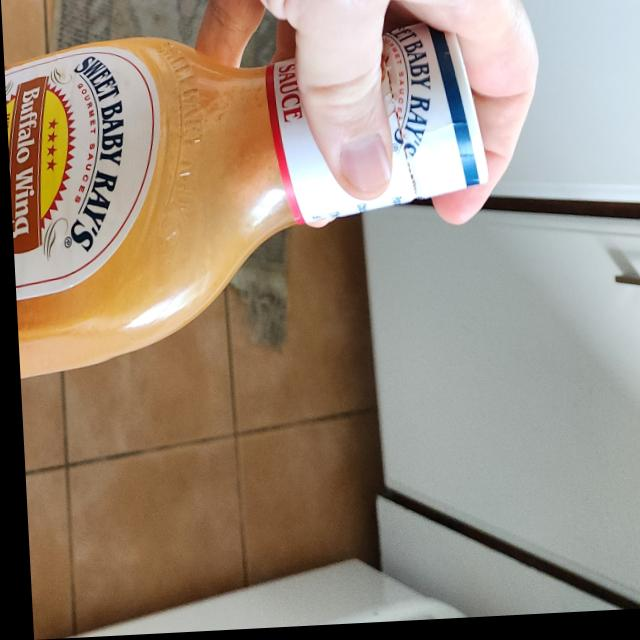buffalo sauce: (2, 23, 494, 391)
